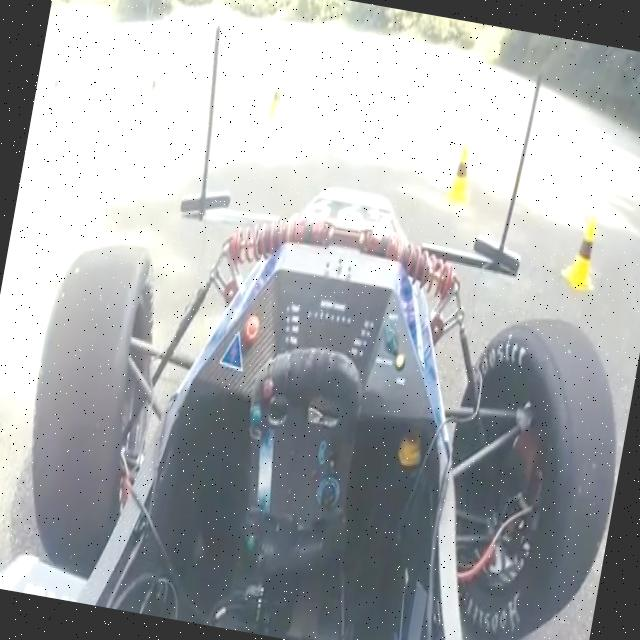yellow_cone: (556, 205, 606, 292), (136, 72, 171, 139), (444, 141, 478, 206), (262, 81, 290, 136), (40, 74, 65, 130)
